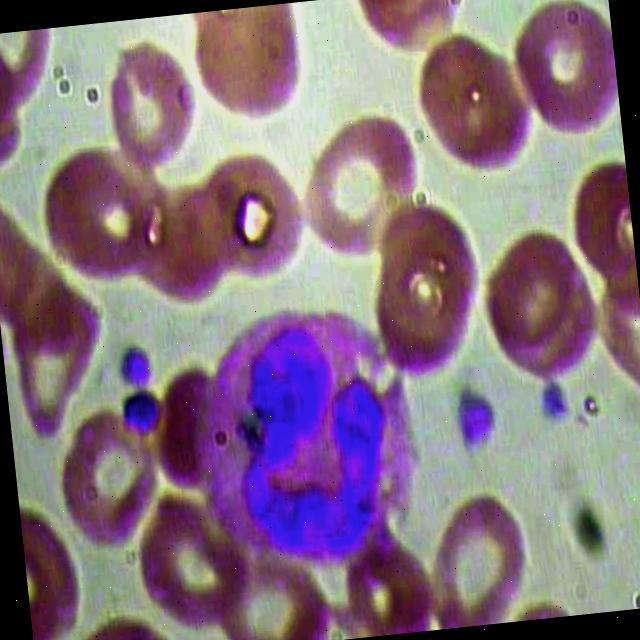Platelets: (441, 376, 505, 454), (109, 330, 157, 396), (534, 369, 574, 434), (117, 388, 161, 441)
RBC: (289, 95, 429, 274), (353, 205, 493, 384), (32, 138, 172, 288), (49, 395, 175, 559), (409, 23, 537, 180), (127, 480, 251, 640), (413, 483, 542, 630), (501, 0, 622, 146), (187, 145, 309, 287), (182, 1, 304, 141), (97, 29, 208, 182), (473, 222, 588, 366), (213, 533, 326, 640)
WBC: (181, 292, 427, 582)
